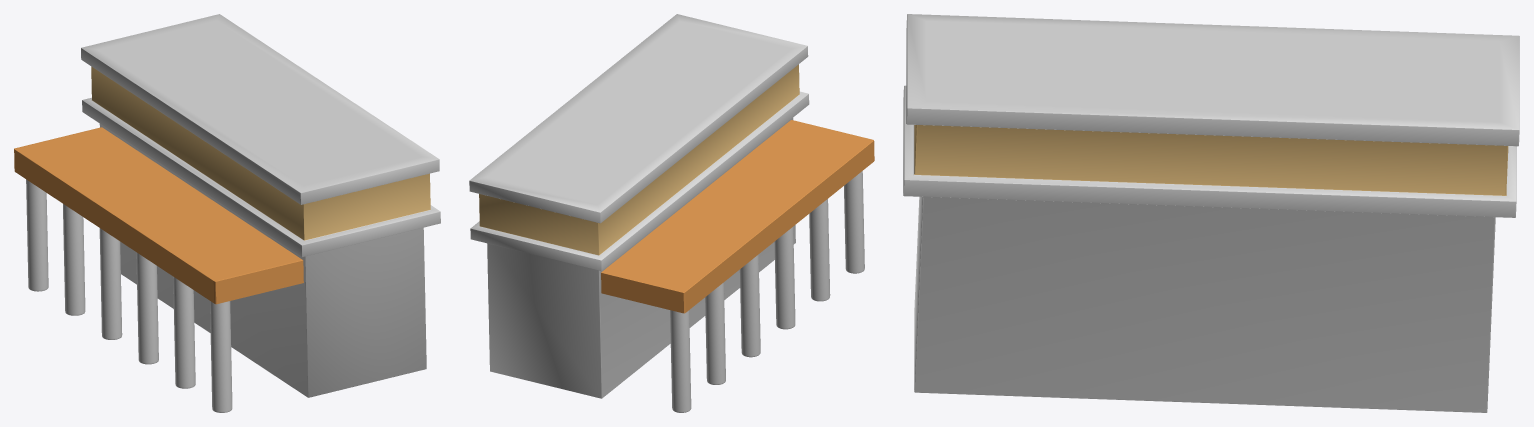
File: Gedung 8.fbx
The picture shows the model from 3 angles, left to right: view 1: azimuth 30°, elevation 25°; view 2: azimuth 150°, elevation 25°; view 3: azimuth 270°, elevation 25°; orthographic projection. The views are drawn at different scales.
Parts seen in each view (by area): view 1: Bangunan YunaniShape; view 2: Bangunan YunaniShape; view 3: Bangunan YunaniShape.
Boxes of the visible parts, left/top/right/bottom form: Bangunan YunaniShape: left=14, top=14, right=440, bottom=412; Bangunan YunaniShape: left=469, top=14, right=874, bottom=412; Bangunan YunaniShape: left=903, top=14, right=1519, bottom=412.
Bounding box in the file's own units: 61.07 × 60.27 × 108.
